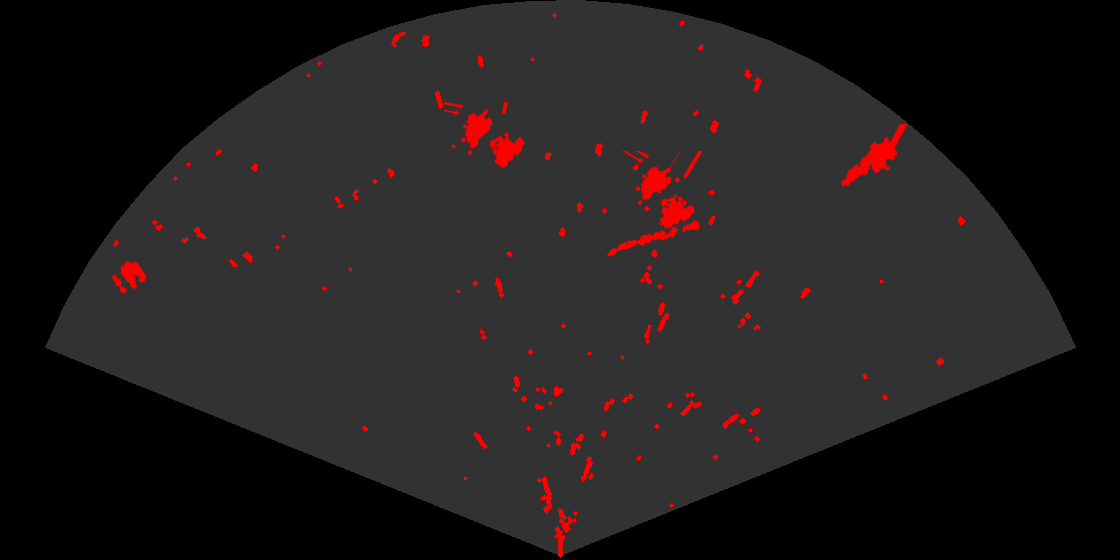ball: (110, 259, 148, 296)
cage: (621, 151, 704, 230), (444, 102, 527, 170)
chain: (605, 218, 702, 258)
frogman: (839, 124, 908, 188)
